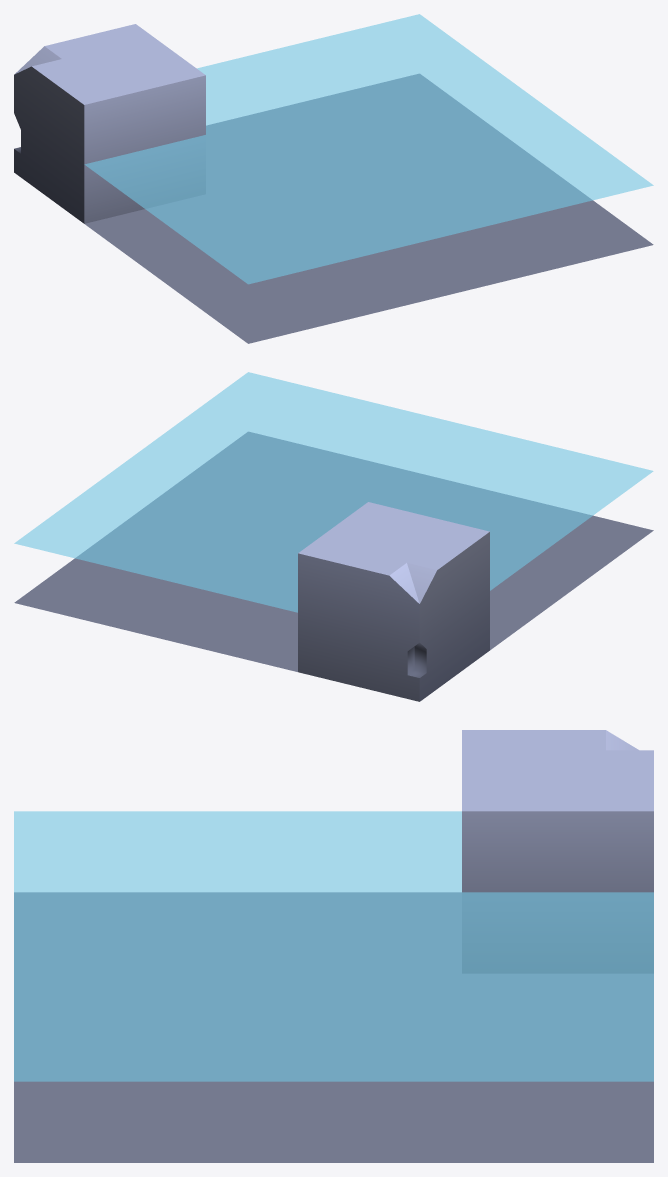
File: fountain-corner-inner-square.glb
The picture shows the model from 3 angles, top to bottom: view 1: azimuth 30°, elevation 25°; view 2: azimuth 150°, elevation 25°; view 3: azimuth 270°, elevation 25°; orthographic projection. The views are drawn at different scales.
Parts seen in each view (by area): view 1: fountain-corner-inner-square, (%ignore); view 2: fountain-corner-inner-square, (%ignore); view 3: fountain-corner-inner-square, (%ignore).
Boxes of the visible parts, box(x1,y1,x2,y2) form: fountain-corner-inner-square: box(14, 24, 653, 343); (%ignore): box(84, 14, 653, 284); fountain-corner-inner-square: box(14, 432, 653, 701); (%ignore): box(14, 372, 653, 612); fountain-corner-inner-square: box(14, 730, 653, 1162); (%ignore): box(14, 811, 653, 1081).
Bounding box in the file's own units: 1 × 0.28 × 1.
2 materials, 1 textured.
